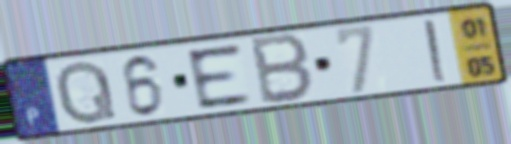6: (120, 53, 168, 118)
7: (333, 24, 380, 95)
B: (249, 31, 317, 108)
E: (182, 40, 255, 112)
I: (420, 17, 452, 85)
Q: (53, 58, 120, 127)
